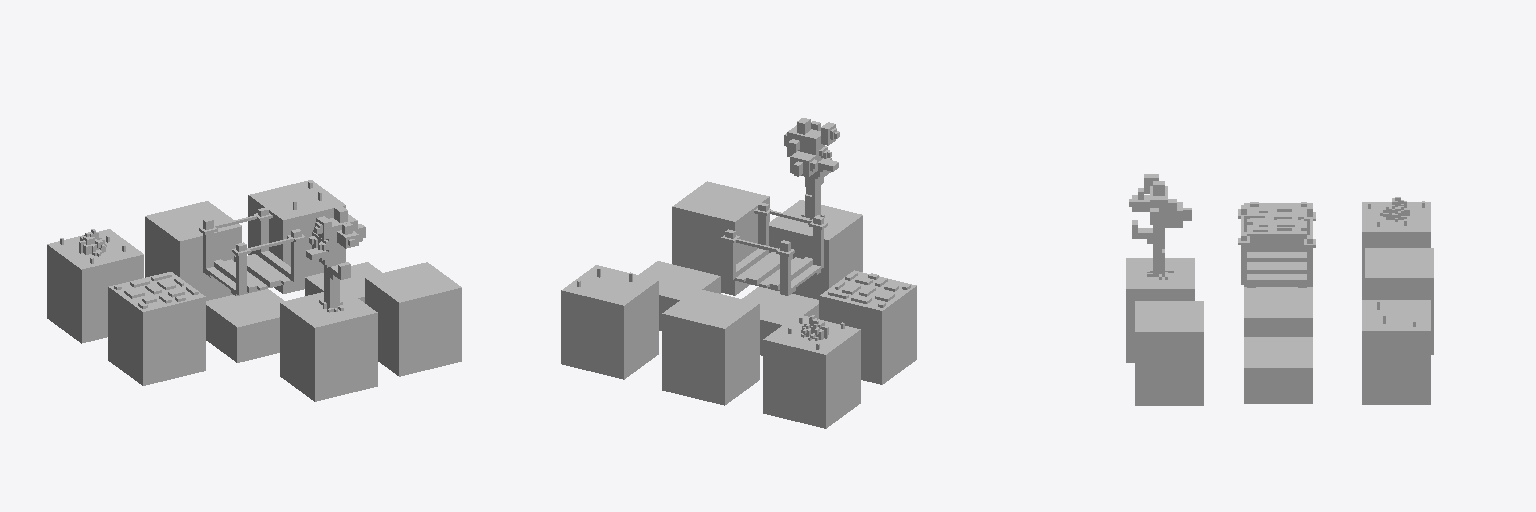
File: tapak7 jalan papan.obj
3 views of the same model, side by side, from view 1: azimuth 30°, elevation 25°; view 2: azimuth 150°, elevation 25°; view 3: azimuth 270°, elevation 25° (orthographic).
Bounding box in the file's own units: 102 × 62 × 102.